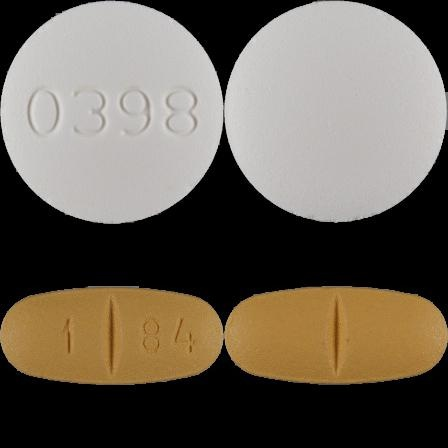63629-4970: (0, 0, 224, 224)
